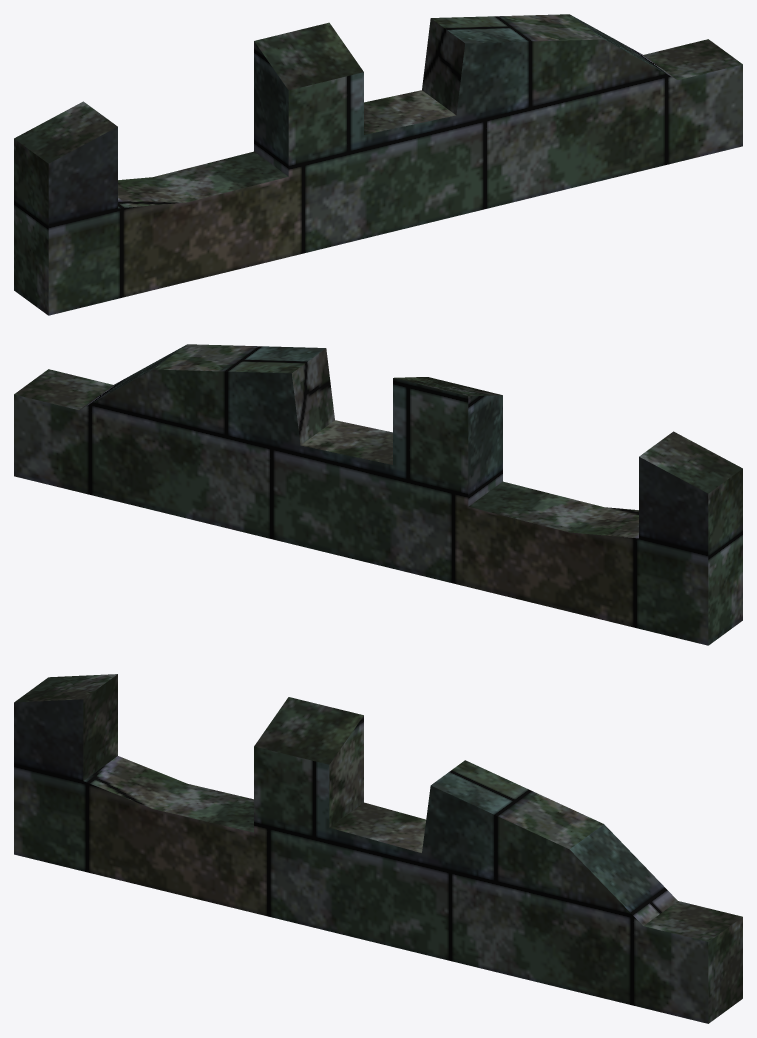
The model's file is SM_CastleRuinWallV1.fbx.
The picture shows the model from 3 angles, top to bottom: view 1: azimuth 30°, elevation 25°; view 2: azimuth 150°, elevation 25°; view 3: azimuth 330°, elevation 25°; orthographic projection.
Visible parts, largest first — view 1: RuinWallV1; view 2: RuinWallV1; view 3: RuinWallV1.
Boxes of the visible parts, x1,y1,x2,y2 form: RuinWallV1: [14, 14, 742, 315]; RuinWallV1: [14, 344, 742, 645]; RuinWallV1: [14, 674, 742, 1023].
Size of the model in its own units: 2321 by 610 by 200.
